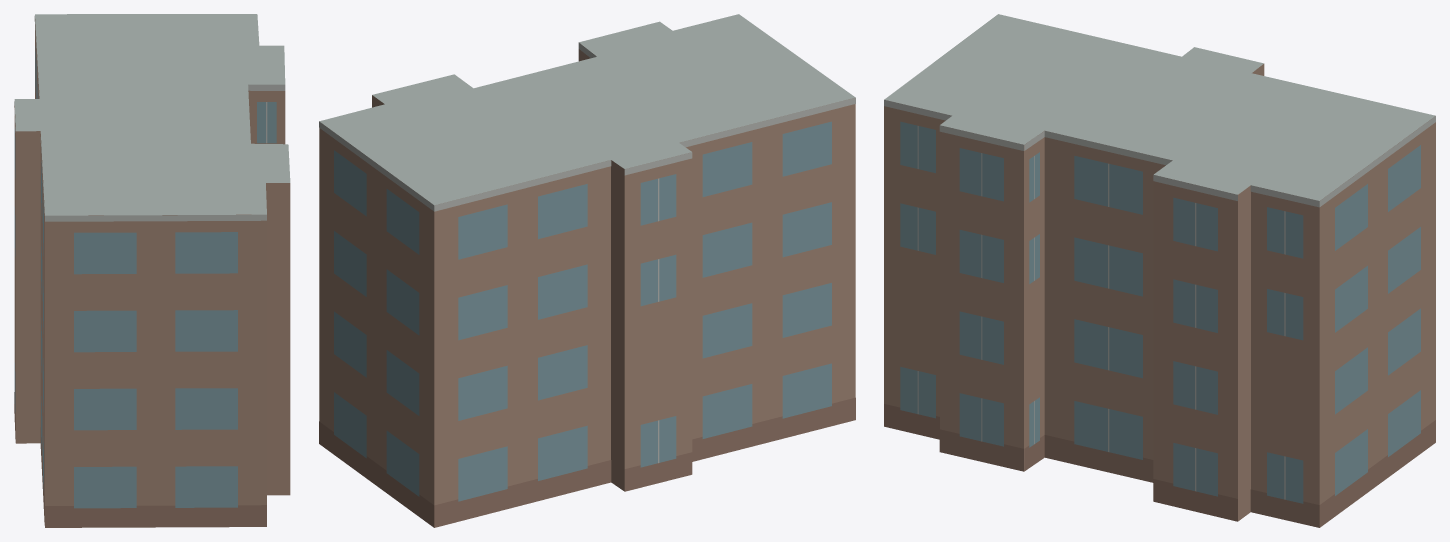
Rendered from survey-upis-32799692.glb.
3 views of the same model, side by side, from view 1: azimuth 30°, elevation 25°; view 2: azimuth 150°, elevation 25°; view 3: azimuth 270°, elevation 25° (orthographic). The views are drawn at different scales.
Parts seen in each view (by area): view 1: survey-upis-32799692.tmp; view 2: survey-upis-32799692.tmp; view 3: survey-upis-32799692.tmp.
Boxes of the visible parts, x1,y1,x2,y2 form: survey-upis-32799692.tmp: [14, 14, 290, 527]; survey-upis-32799692.tmp: [319, 14, 855, 527]; survey-upis-32799692.tmp: [884, 14, 1435, 527].
Bounding box in the file's own units: 15.22 × 12.4 × 18.98.
